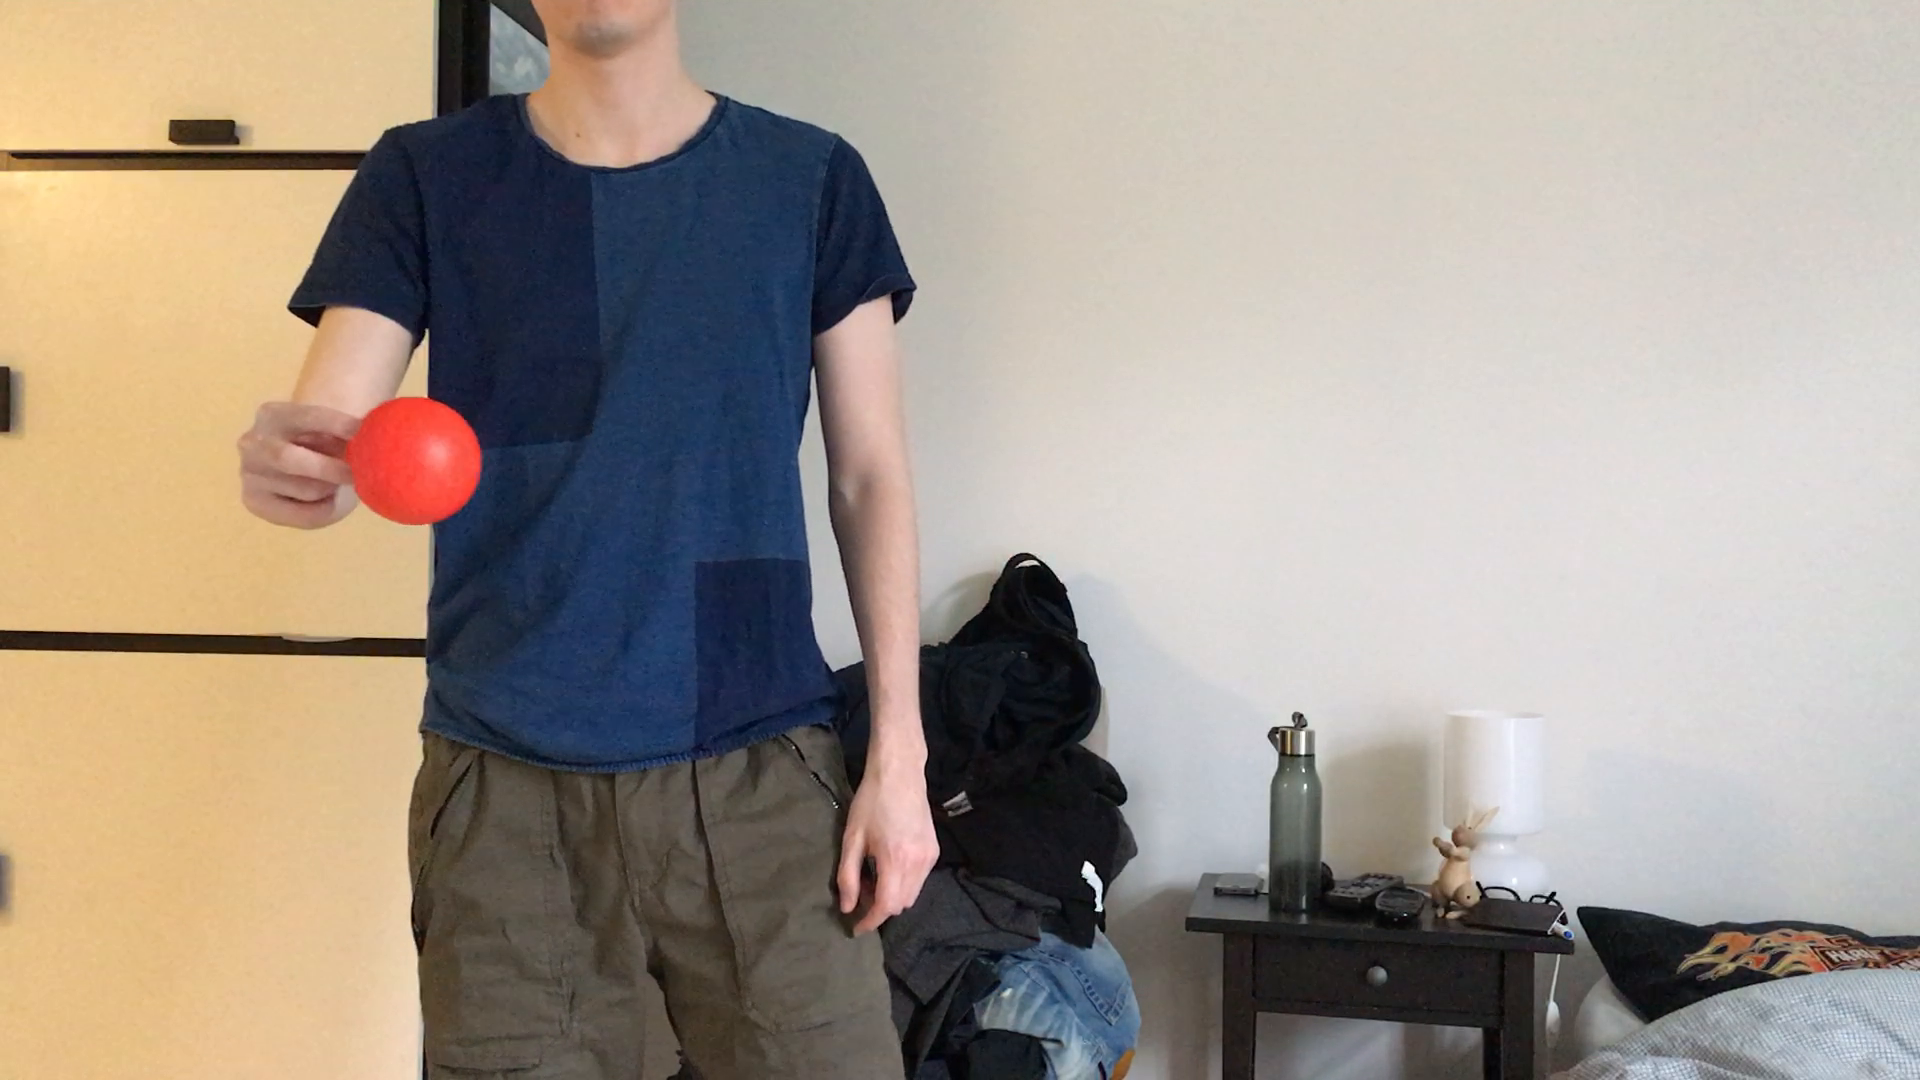Ball: (348, 400, 477, 526)
